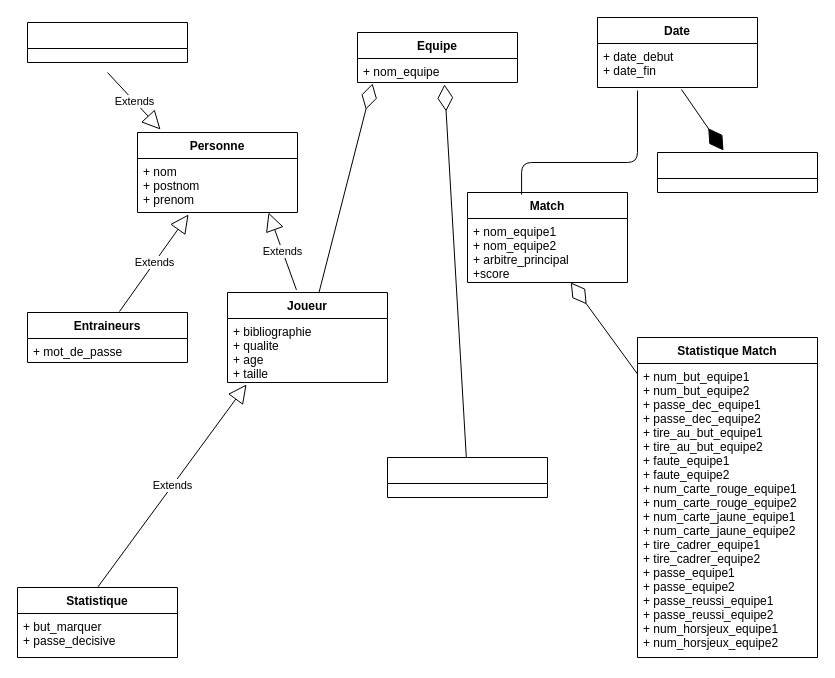
The diagram is 835 pixels wide and 678 high, and some of its shapes have lost their labels. The shapes that lost their labels are listed below. From the top down, each one's centre as x and y in pixels, then its label:
pixel 107 42: Internaute
pixel 737 172: Calendrier Match
pixel 467 477: Classement
